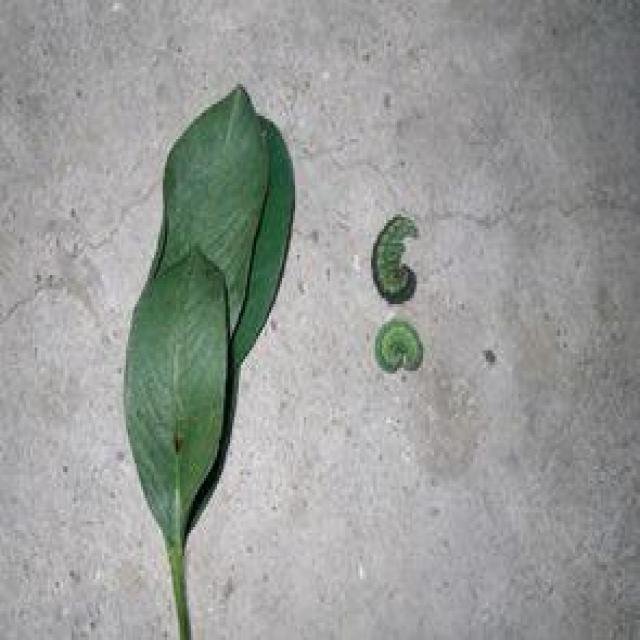BeetArmyWorm-Larva-: (366, 205, 426, 309), (372, 311, 435, 380)
